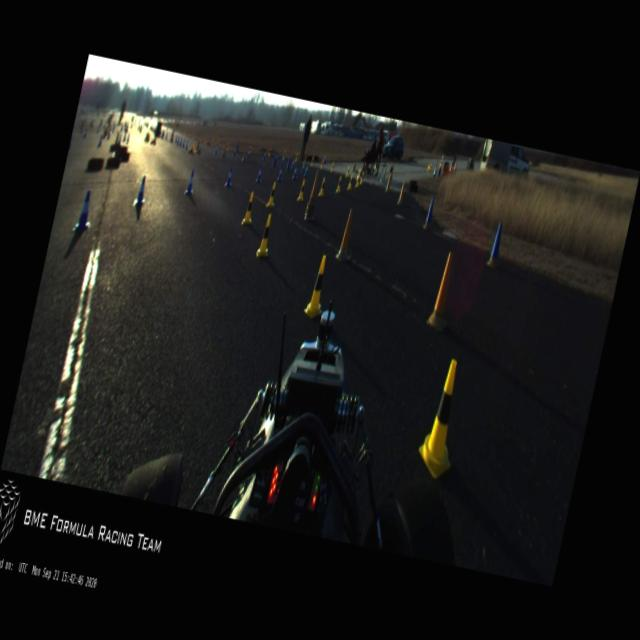blue_cone: (72, 189, 96, 236), (132, 174, 150, 208), (184, 169, 196, 196), (223, 166, 234, 188), (255, 166, 263, 183), (276, 167, 284, 182), (292, 166, 298, 180), (304, 164, 310, 176), (300, 162, 305, 174)
yellow_cone: (412, 356, 472, 482), (302, 252, 334, 320), (256, 212, 276, 260), (240, 190, 258, 226), (265, 180, 278, 208), (296, 178, 308, 202), (318, 175, 327, 198), (334, 174, 342, 193), (346, 173, 354, 190), (354, 166, 360, 182), (355, 175, 361, 188), (359, 171, 364, 184), (345, 165, 350, 178), (319, 158, 324, 170), (330, 160, 334, 172), (310, 156, 314, 166)
